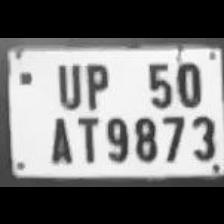0: (172, 58, 204, 106)
3: (186, 108, 218, 162)
5: (141, 57, 173, 107)
7: (159, 109, 187, 163)
8: (130, 110, 159, 164)
9: (102, 112, 131, 162)
A: (44, 112, 74, 164)
P: (80, 58, 111, 110)
T: (73, 112, 101, 162)
U: (50, 58, 82, 108)
